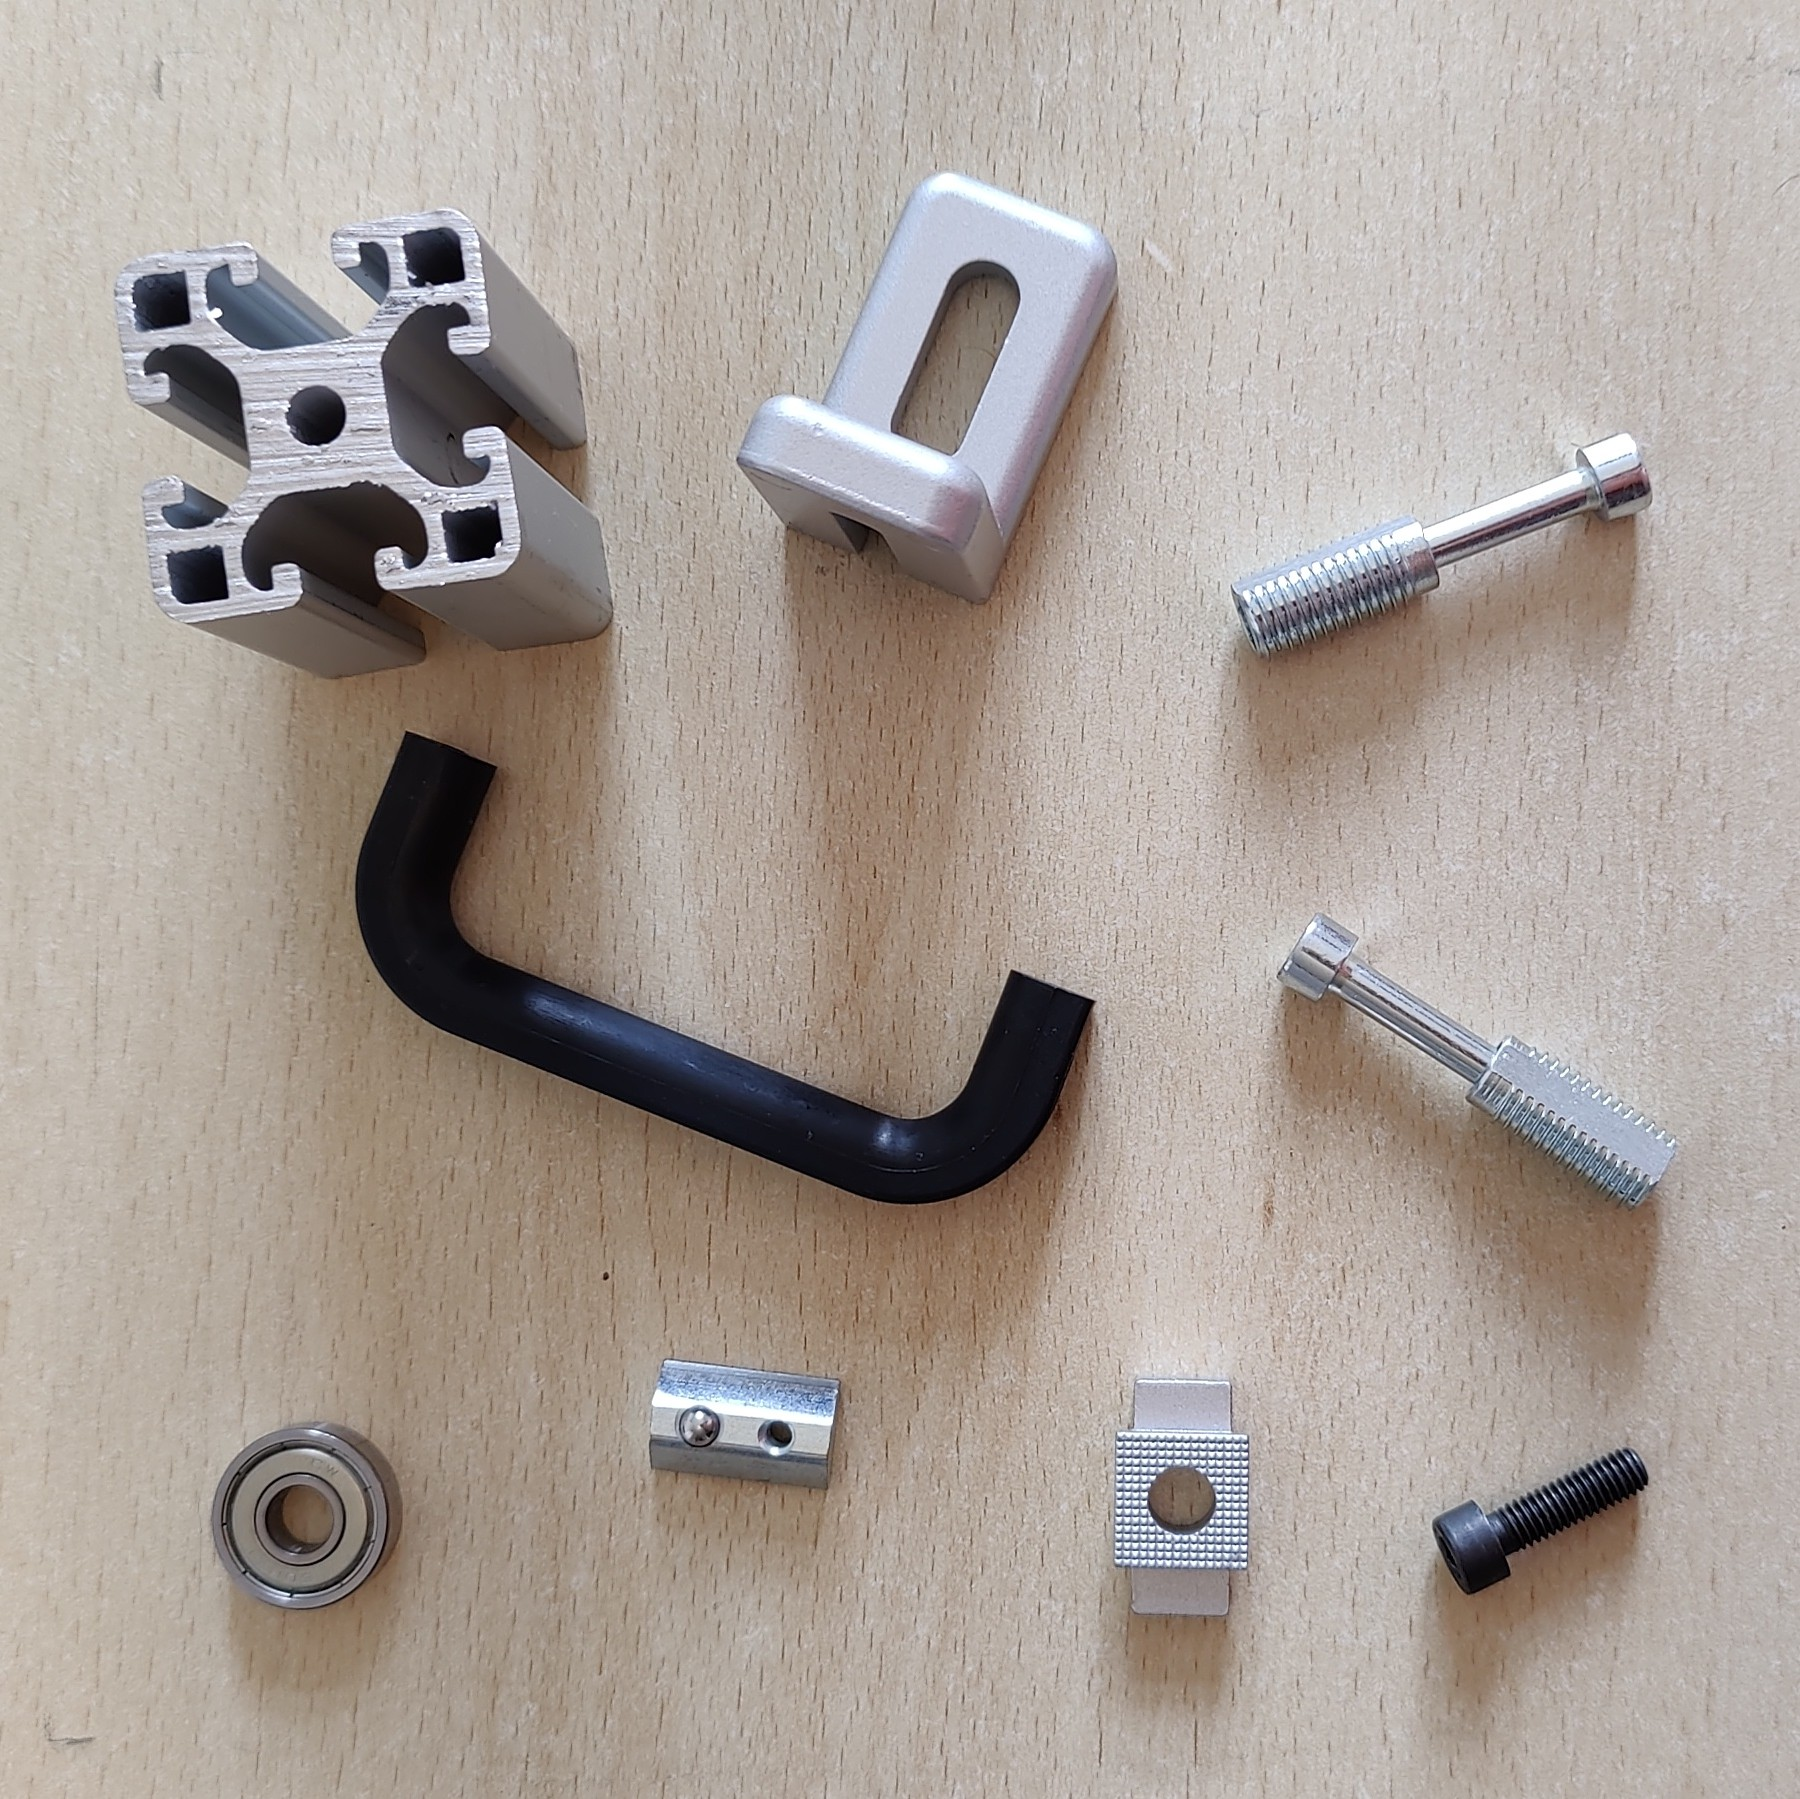Aluminium Extension: (115, 203, 616, 684)
Ball Bearing: (208, 1417, 407, 1613)
Multiwinkel: (734, 168, 1123, 608)
Pull Handle: (352, 730, 1097, 1206)
Shoulder Socket Head Cap Screw: (1275, 909, 1681, 1214), (1227, 430, 1655, 664)
Socket Head Cap Screw: (1431, 1445, 1652, 1598)
T Nut Square: (1112, 1376, 1252, 1621)
T Spring Nut: (646, 1357, 842, 1494)
